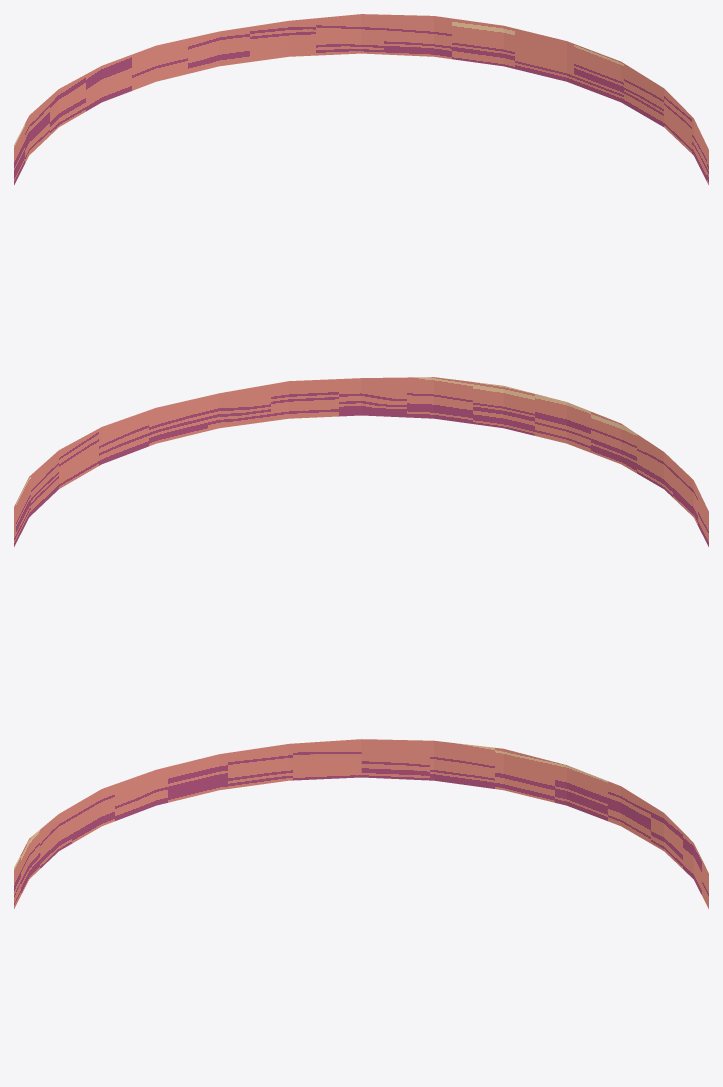
File: skyx.horizon__dunes.glb
3 renders of one model, top to bottom at view 1: azimuth 30°, elevation 25°; view 2: azimuth 150°, elevation 25°; view 3: azimuth 270°, elevation 25°, orthographic.
Visible parts, largest first — view 1: kit_shell_horizon; view 2: kit_shell_horizon; view 3: kit_shell_horizon.
Part boxes in pixels (left/top/right/bottom): kit_shell_horizon: left=14, top=14, right=708, bottom=184; kit_shell_horizon: left=14, top=377, right=708, bottom=546; kit_shell_horizon: left=14, top=739, right=708, bottom=908.
Size of the model in its own units: 180 by 12.09 by 179.
1 material, 1 textured.
